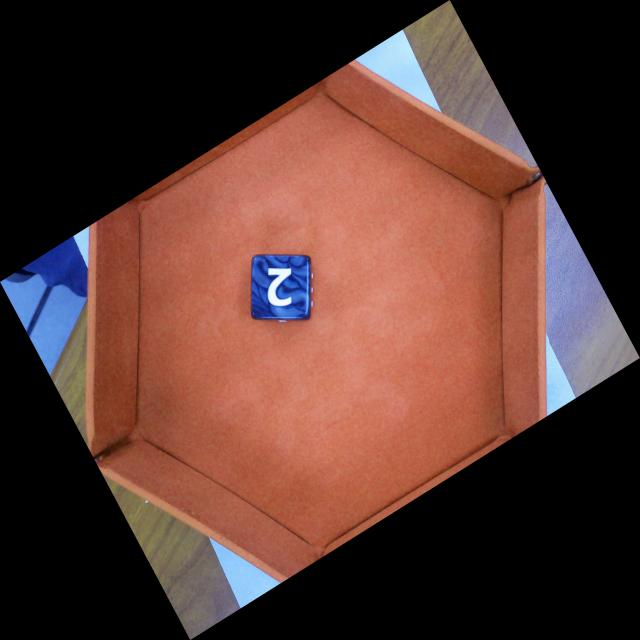dice: (249, 253, 312, 322)
